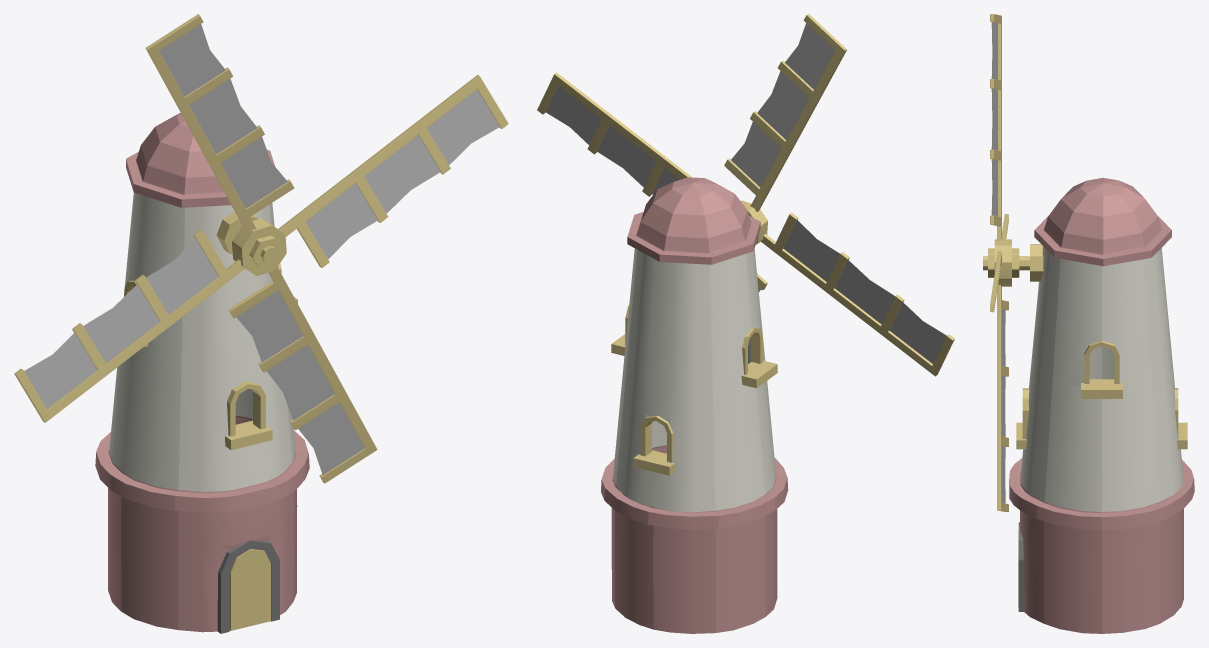
Rendered from windmill.glb.
3 views of the same model, side by side, from view 1: azimuth 30°, elevation 25°; view 2: azimuth 150°, elevation 25°; view 3: azimuth 270°, elevation 25° (orthographic). The views are drawn at different scales.
Parts seen in each view (by area): view 1: polySurface3, polySurface2, polySurface4, polySurface1, pPlane4, pPlane2, pPlane1, pPlane3, pSphere1, pCylinder2, pPipe1, pPipe4 (+2 smaller); view 2: polySurface3, polySurface2, pSphere1, polySurface4, pPlane3, pPlane4, polySurface1, pPlane2, pPipe2, pCube8, pCube7, pPipe6; view 3: polySurface3, polySurface2, pSphere1, polySurface1, pPlane3, pCube9, pPlane1, pPipe4, pPipe7, pCylinder5, pPipe1, polySurface4 (+2 smaller).
Part boxes in pixels (bbox=[...]): polySurface3: bbox=[109, 192, 295, 491]; polySurface2: bbox=[95, 415, 309, 632]; polySurface4: bbox=[14, 75, 508, 422]; polySurface1: bbox=[145, 14, 377, 483]; pPlane4: bbox=[24, 238, 218, 408]; pPlane2: bbox=[306, 89, 499, 259]; pPlane1: bbox=[236, 290, 364, 474]; pPlane3: bbox=[159, 24, 287, 208]; pSphere1: bbox=[126, 113, 274, 207]; pCylinder2: bbox=[229, 549, 270, 630]; pPipe1: bbox=[217, 540, 279, 633]; pPipe4: bbox=[232, 218, 286, 275]; polySurface3: bbox=[613, 248, 776, 512]; polySurface2: bbox=[601, 445, 788, 633]; pSphere1: bbox=[627, 177, 760, 264]; polySurface4: bbox=[537, 72, 954, 376]; pPlane3: bbox=[731, 23, 835, 187]; pPlane4: bbox=[783, 220, 946, 363]; polySurface1: bbox=[724, 14, 846, 290]; pPlane2: bbox=[545, 85, 679, 194]; pPipe2: bbox=[640, 415, 673, 462]; pCube8: bbox=[633, 450, 675, 475]; pCube7: bbox=[741, 360, 777, 388]; pPipe6: bbox=[742, 327, 762, 374]; polySurface3: bbox=[1021, 246, 1182, 511]; polySurface2: bbox=[1009, 458, 1194, 633]; pSphere1: bbox=[1034, 177, 1171, 266]; polySurface1: bbox=[990, 14, 1008, 511]; pPlane3: bbox=[991, 22, 997, 216]; pCube9: bbox=[1081, 379, 1122, 398]; pPlane1: bbox=[1002, 309, 1005, 503]; pPipe4: bbox=[994, 239, 1011, 286]; pPipe7: bbox=[1084, 341, 1119, 383]; pCylinder5: bbox=[1030, 244, 1043, 281]; pPipe1: bbox=[1018, 522, 1024, 611]; polySurface4: bbox=[990, 213, 1008, 312].
Bounding box in the file's own units: 0.1908 × 0.2408 × 0.0829.
